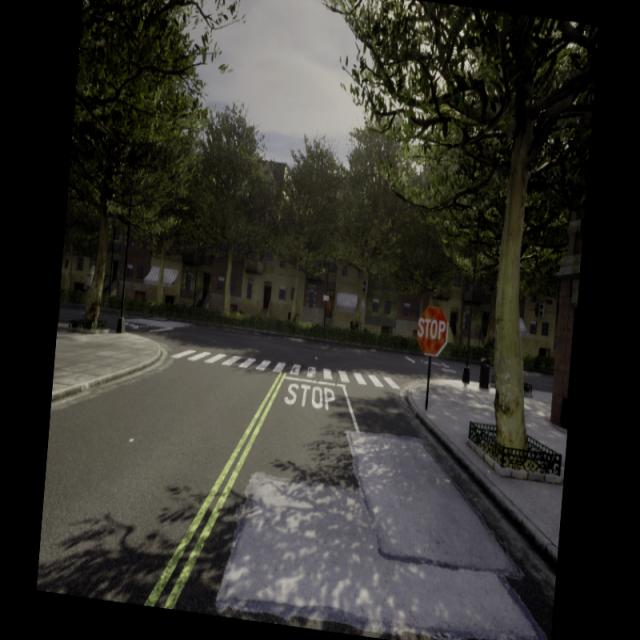stop sign: (414, 302, 450, 358), (416, 316, 447, 341)
